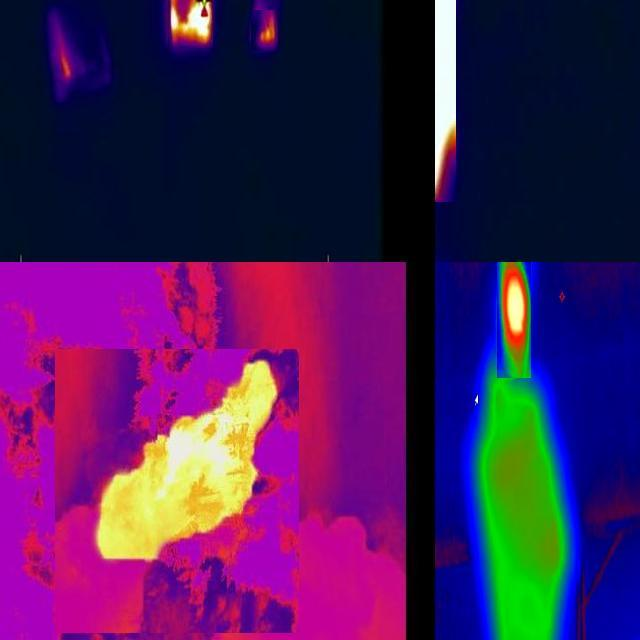fire: (88, 356, 277, 562), (497, 263, 531, 378), (168, 1, 213, 48), (251, 10, 278, 51)
